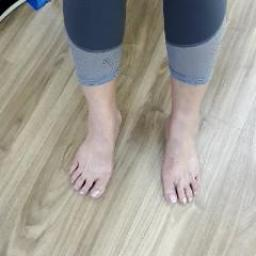Front View -Both Feet-: (39, 79, 242, 221)
